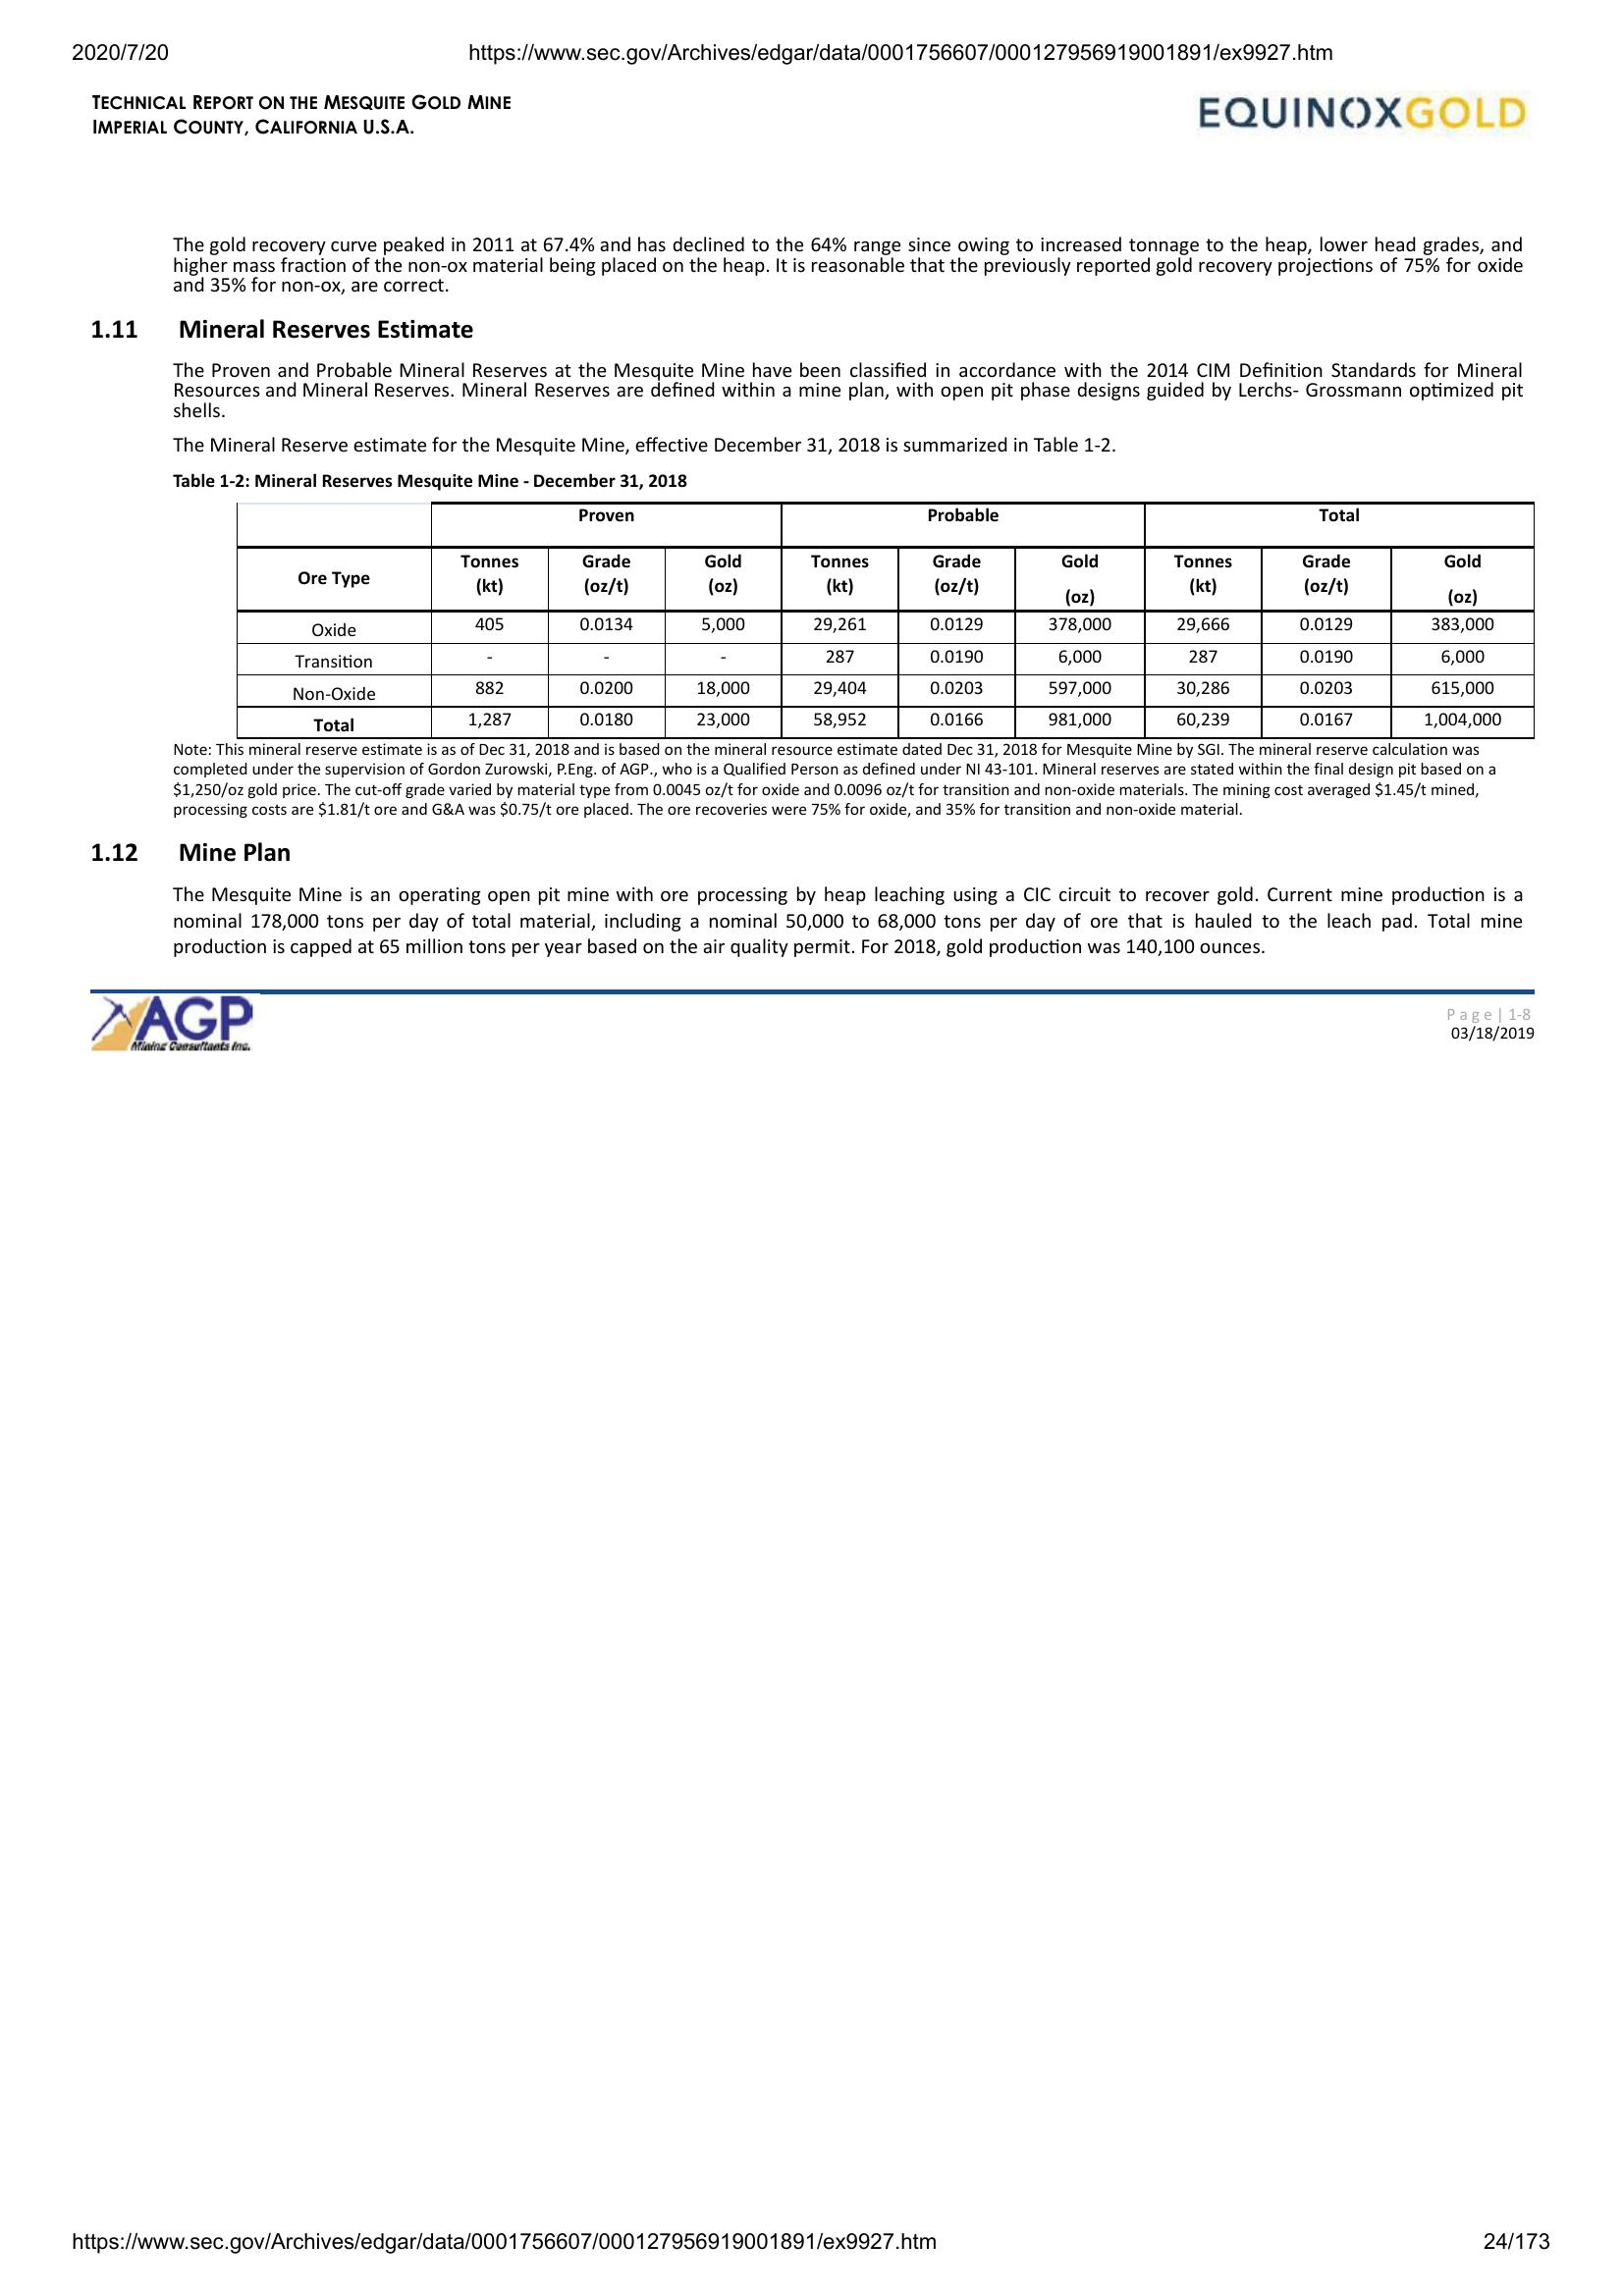table: (228, 499, 1544, 744)
